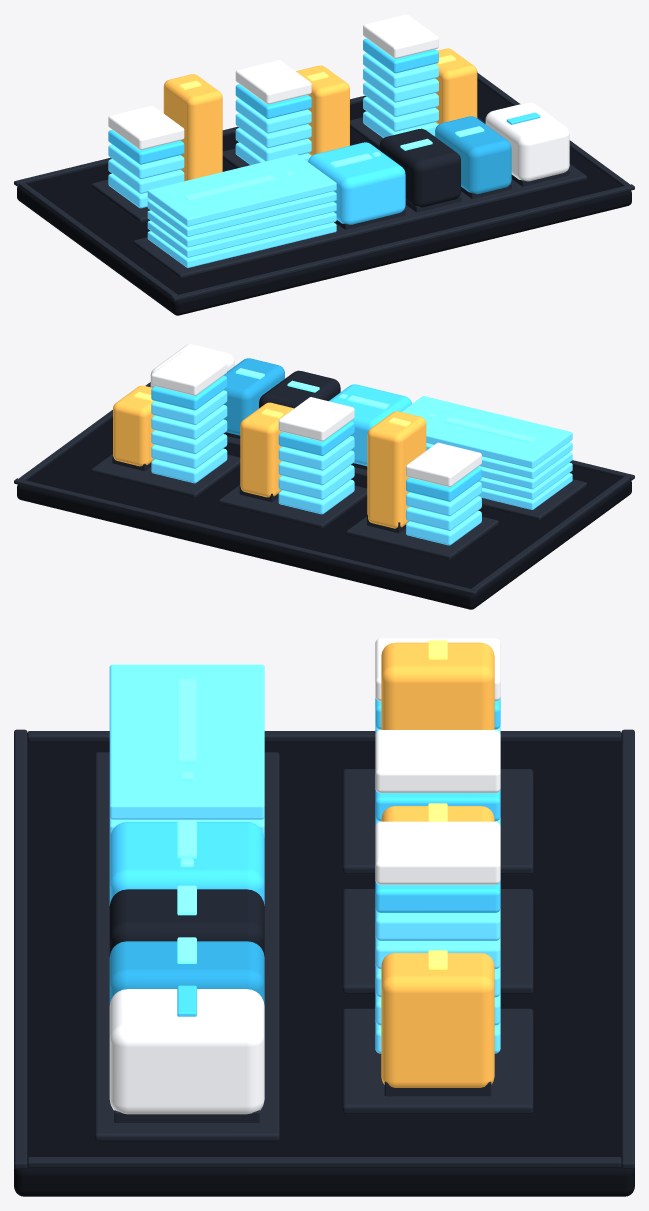
Rendered from mix.glb.
3 views of the same model, one above another, from view 1: azimuth 30°, elevation 25°; view 2: azimuth 150°, elevation 25°; view 3: azimuth 270°, elevation 25° (orthographic). The views are drawn at different scales.
Parts seen in each view (by area): view 1: object 1, seg_0, col_0, col_2, col_1, seg_1, object 6, seg_4, seg_2, seg_3, object 2, object 4 (+2 smaller); view 2: object 1, col_0, col_2, col_1, seg_0, object 3, seg_3, seg_1, seg_2, object 6, object 4, object 5 (+2 smaller); view 3: object 1, col_2, seg_0, seg_4, col_0, col_1, object 6, seg_1, seg_2, seg_3, object 5, object 2 (+2 smaller).
Part boxes in pixels (x1=…): object 1: x1=17, y1=81, x2=631, y2=315; seg_0: x1=147, y1=154, x2=336, y2=267; col_0: x1=91, y1=74, x2=222, y2=223; col_2: x1=350, y1=14, x2=485, y2=149; col_1: x1=222, y1=60, x2=349, y2=168; seg_1: x1=308, y1=142, x2=405, y2=229; object 6: x1=133, y1=164, x2=586, y2=278; seg_4: x1=485, y1=102, x2=569, y2=186; seg_2: x1=379, y1=128, x2=461, y2=212; seg_3: x1=435, y1=116, x2=511, y2=198; object 2: x1=171, y1=184, x2=634, y2=301; object 4: x1=18, y1=182, x2=177, y2=297; object 1: x1=17, y1=418, x2=631, y2=609; col_0: x1=346, y1=411, x2=498, y2=560; col_2: x1=91, y1=351, x2=240, y2=498; col_1: x1=218, y1=397, x2=367, y2=529; seg_0: x1=401, y1=396, x2=572, y2=509; object 3: x1=14, y1=478, x2=477, y2=595; seg_3: x1=223, y1=358, x2=284, y2=438; seg_1: x1=329, y1=384, x2=411, y2=469; seg_2: x1=259, y1=370, x2=340, y2=408; object 6: x1=227, y1=436, x2=586, y2=520; object 4: x1=471, y1=476, x2=630, y2=591; object 5: x1=19, y1=382, x2=150, y2=480; object 1: x1=14, y1=740, x2=634, y2=1196; col_2: x1=342, y1=821, x2=533, y2=1114; seg_0: x1=109, y1=664, x2=264, y2=837; seg_4: x1=109, y1=985, x2=264, y2=1122; col_0: x1=342, y1=638, x2=533, y2=874; col_1: x1=342, y1=730, x2=533, y2=994; object 6: x1=94, y1=752, x2=279, y2=1141; seg_1: x1=109, y1=820, x2=264, y2=905; seg_2: x1=109, y1=885, x2=264, y2=956; seg_3: x1=109, y1=937, x2=264, y2=1005; object 5: x1=27, y1=1157, x2=621, y2=1167; object 2: x1=14, y1=729, x2=27, y2=1169.
Bounding box in the file's own units: 3.44 × 0.8971 × 2.08.
